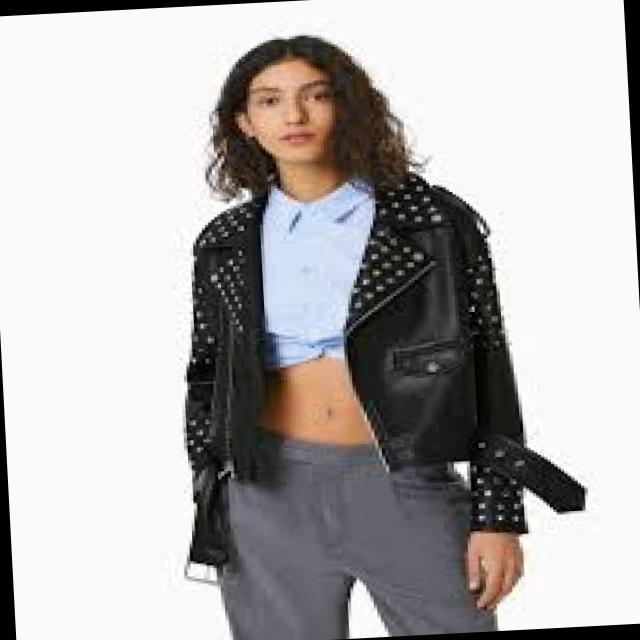Jacket: (93, 168, 491, 544)
